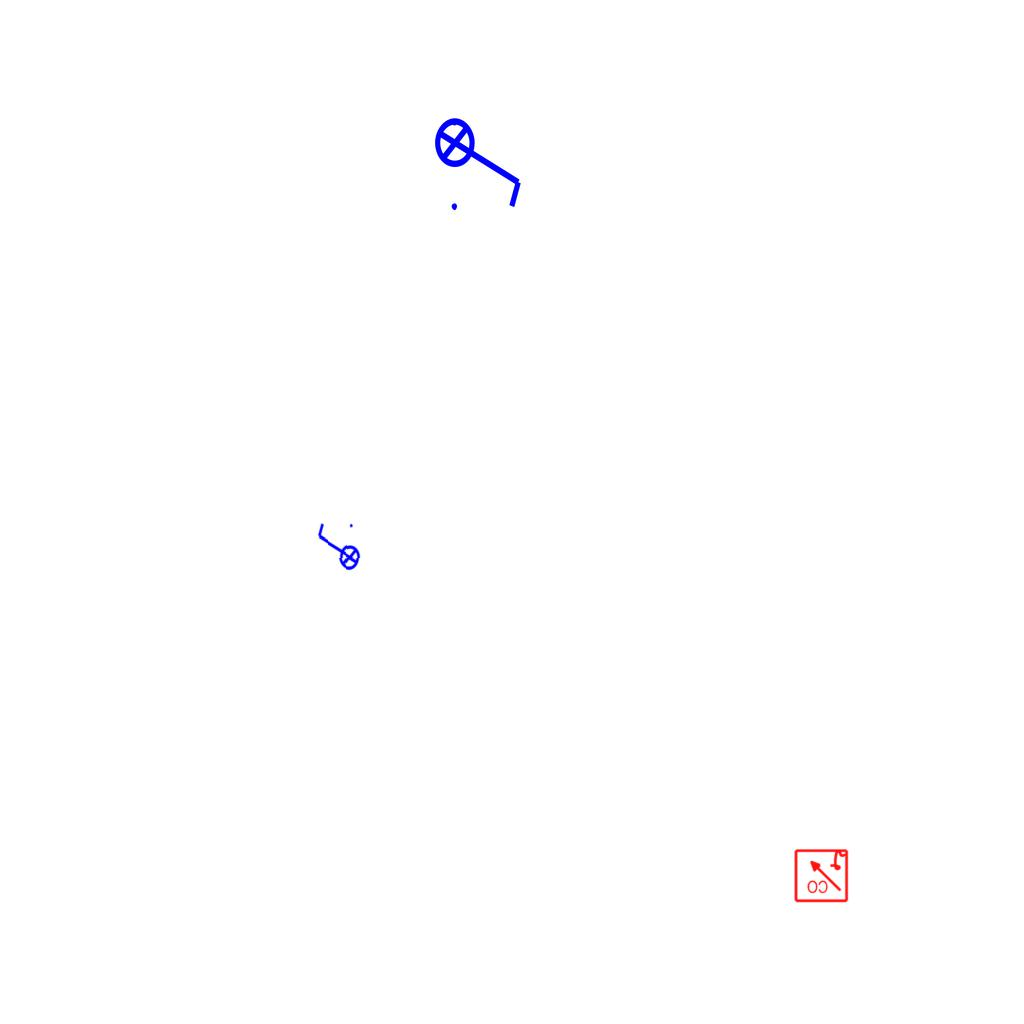Ausschalter_beleuchtet: (433, 104, 529, 216), (311, 518, 363, 578)
ROA_Rauchmelder_optisch_mit_Signalgeber_(Sockelsirene): (793, 847, 849, 903)
